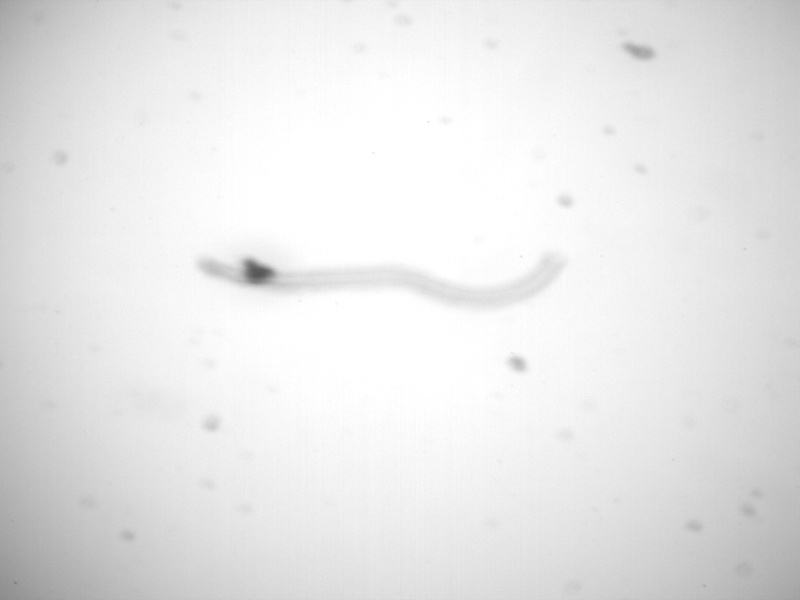fiber: (194, 253, 570, 308)
